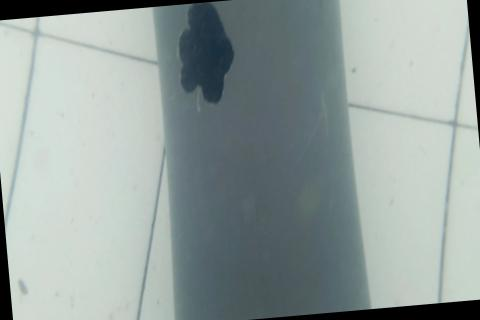kebocoran: (173, 0, 240, 109)
